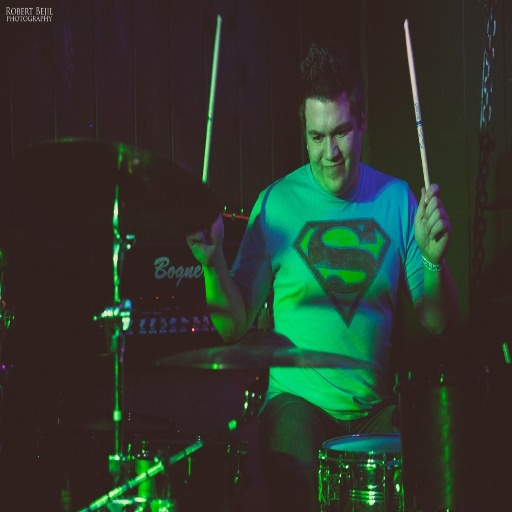hand: (415, 182, 456, 260), (186, 211, 225, 266)
